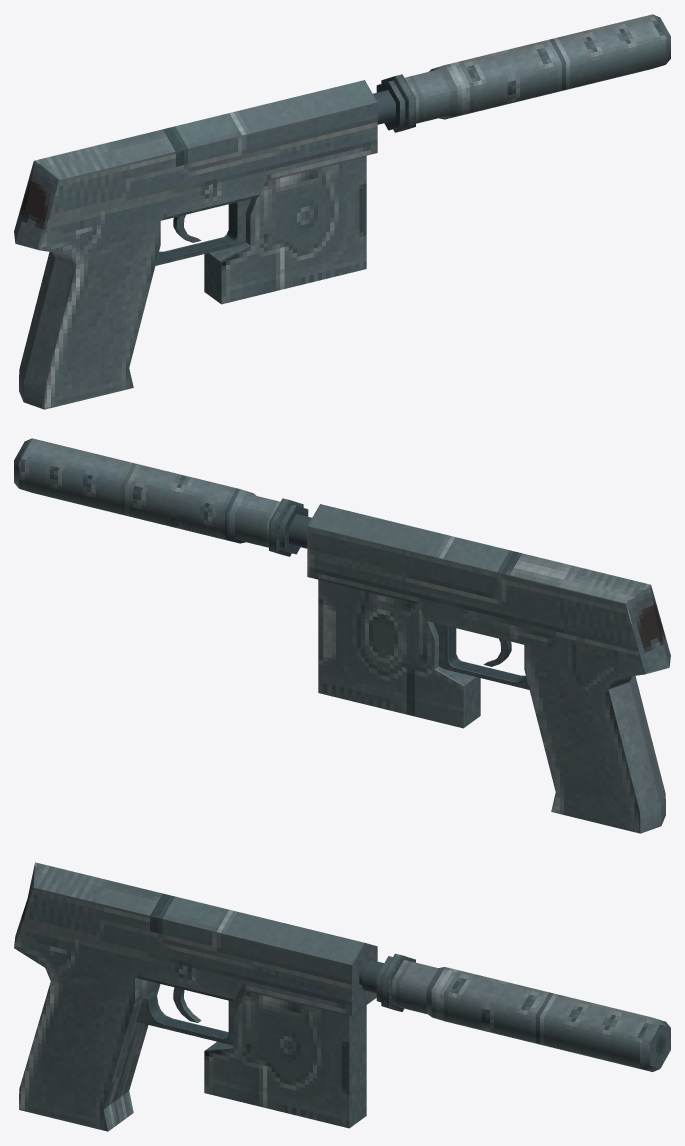
File: Socom.fbx
3 renders of one model, top to bottom at view 1: azimuth 30°, elevation 25°; view 2: azimuth 150°, elevation 25°; view 3: azimuth 330°, elevation 25°, orthographic.
Visible parts, largest first — view 1: Socom; view 2: Socom; view 3: Socom.
Boxes of the visible parts, x1,y1,x2,y2 form: Socom: (14, 14, 670, 409); Socom: (14, 438, 670, 833); Socom: (14, 862, 670, 1131).
Bounding box in the file's own units: 19.64 × 6.95 × 1.43.
1 material, 1 textured.
